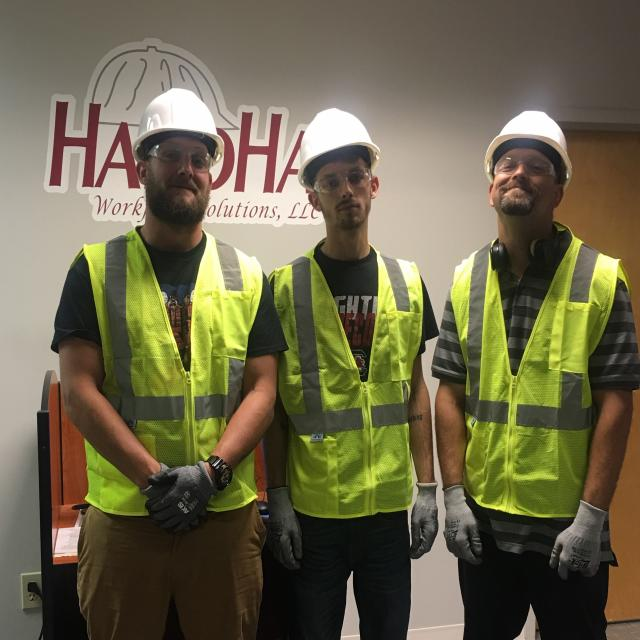Reflective-Jacket: (68, 234, 266, 515), (445, 237, 635, 526), (267, 246, 428, 523)
Safety-Helmet: (131, 84, 230, 158), (481, 104, 578, 177), (292, 102, 382, 168)
